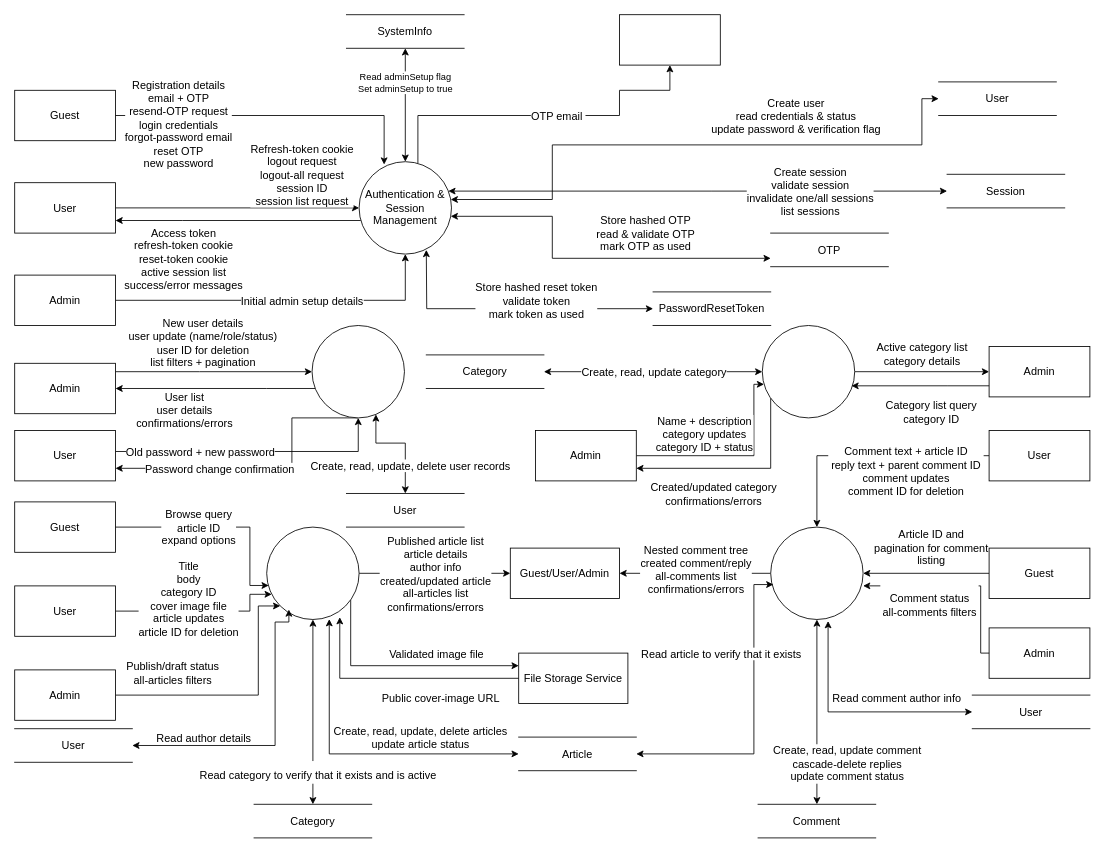
Image size: 1105x853. Some labels were removed from this diagram. The centre of each missing label's shape, as x and y in pixels:
Article Management: point 312,573
Category Management: point 808,371
Comment Management: point 816,573
Email Service: point 669,39
User Management: point 357,371
